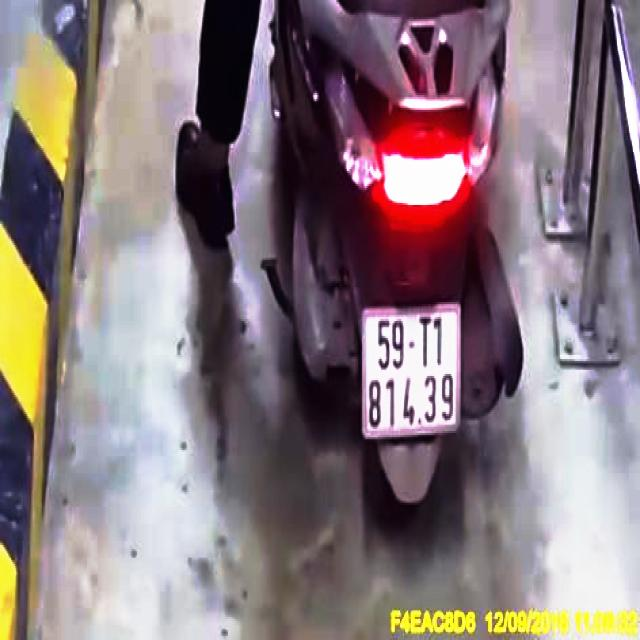license_plate: (366, 309, 458, 437)
